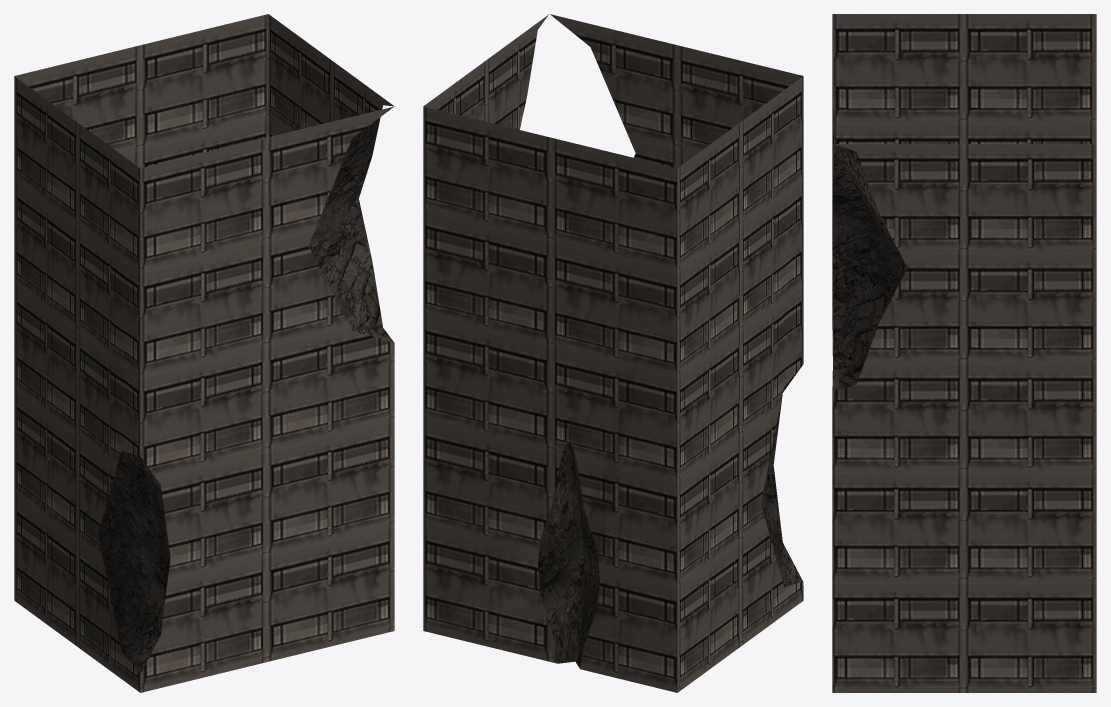
File: building_sample.fbx
3 renders of one model, left to right at view 1: azimuth 30°, elevation 25°; view 2: azimuth 150°, elevation 25°; view 3: azimuth 270°, elevation 25°, orthographic. The views are drawn at different scales.
Visible parts, largest first — view 1: bldg01_3; view 2: bldg01_3; view 3: bldg01_3.
Boxes of the visible parts, left/top/right/bottom form: bldg01_3: left=14, top=14, right=394, bottom=692; bldg01_3: left=423, top=14, right=803, bottom=692; bldg01_3: left=832, top=14, right=1096, bottom=692.
Size of the model in its own units: 1598 by 3149 by 1374.
2 materials, 2 textured.
